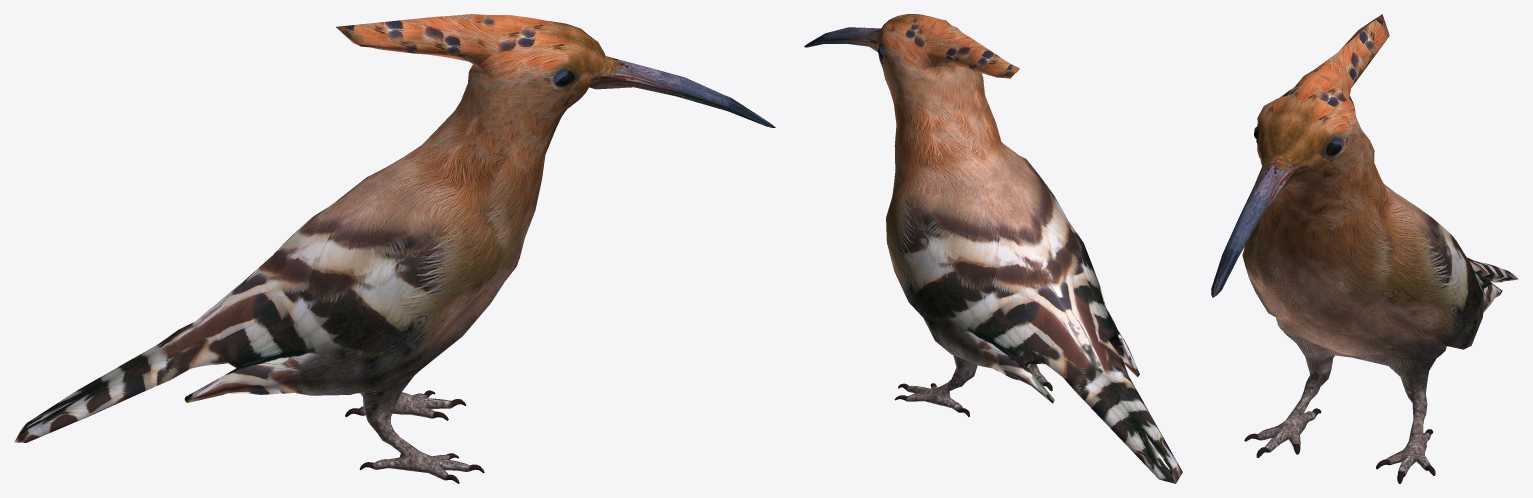
The model's file is Eurhoop.fbx.
The picture shows the model from 3 angles, left to right: view 1: azimuth 30°, elevation 25°; view 2: azimuth 150°, elevation 25°; view 3: azimuth 270°, elevation 25°; orthographic projection. The views are drawn at different scales.
Parts seen in each view (by area): view 1: Euraseian Hoopoe_0; view 2: Euraseian Hoopoe_0; view 3: Euraseian Hoopoe_0.
Boxes of the visible parts, x1,y1,x2,y2 form: Euraseian Hoopoe_0: (14, 14, 775, 483); Euraseian Hoopoe_0: (804, 14, 1182, 483); Euraseian Hoopoe_0: (1211, 14, 1518, 483).
Size of the model in its own units: 396 by 264 by 179.
